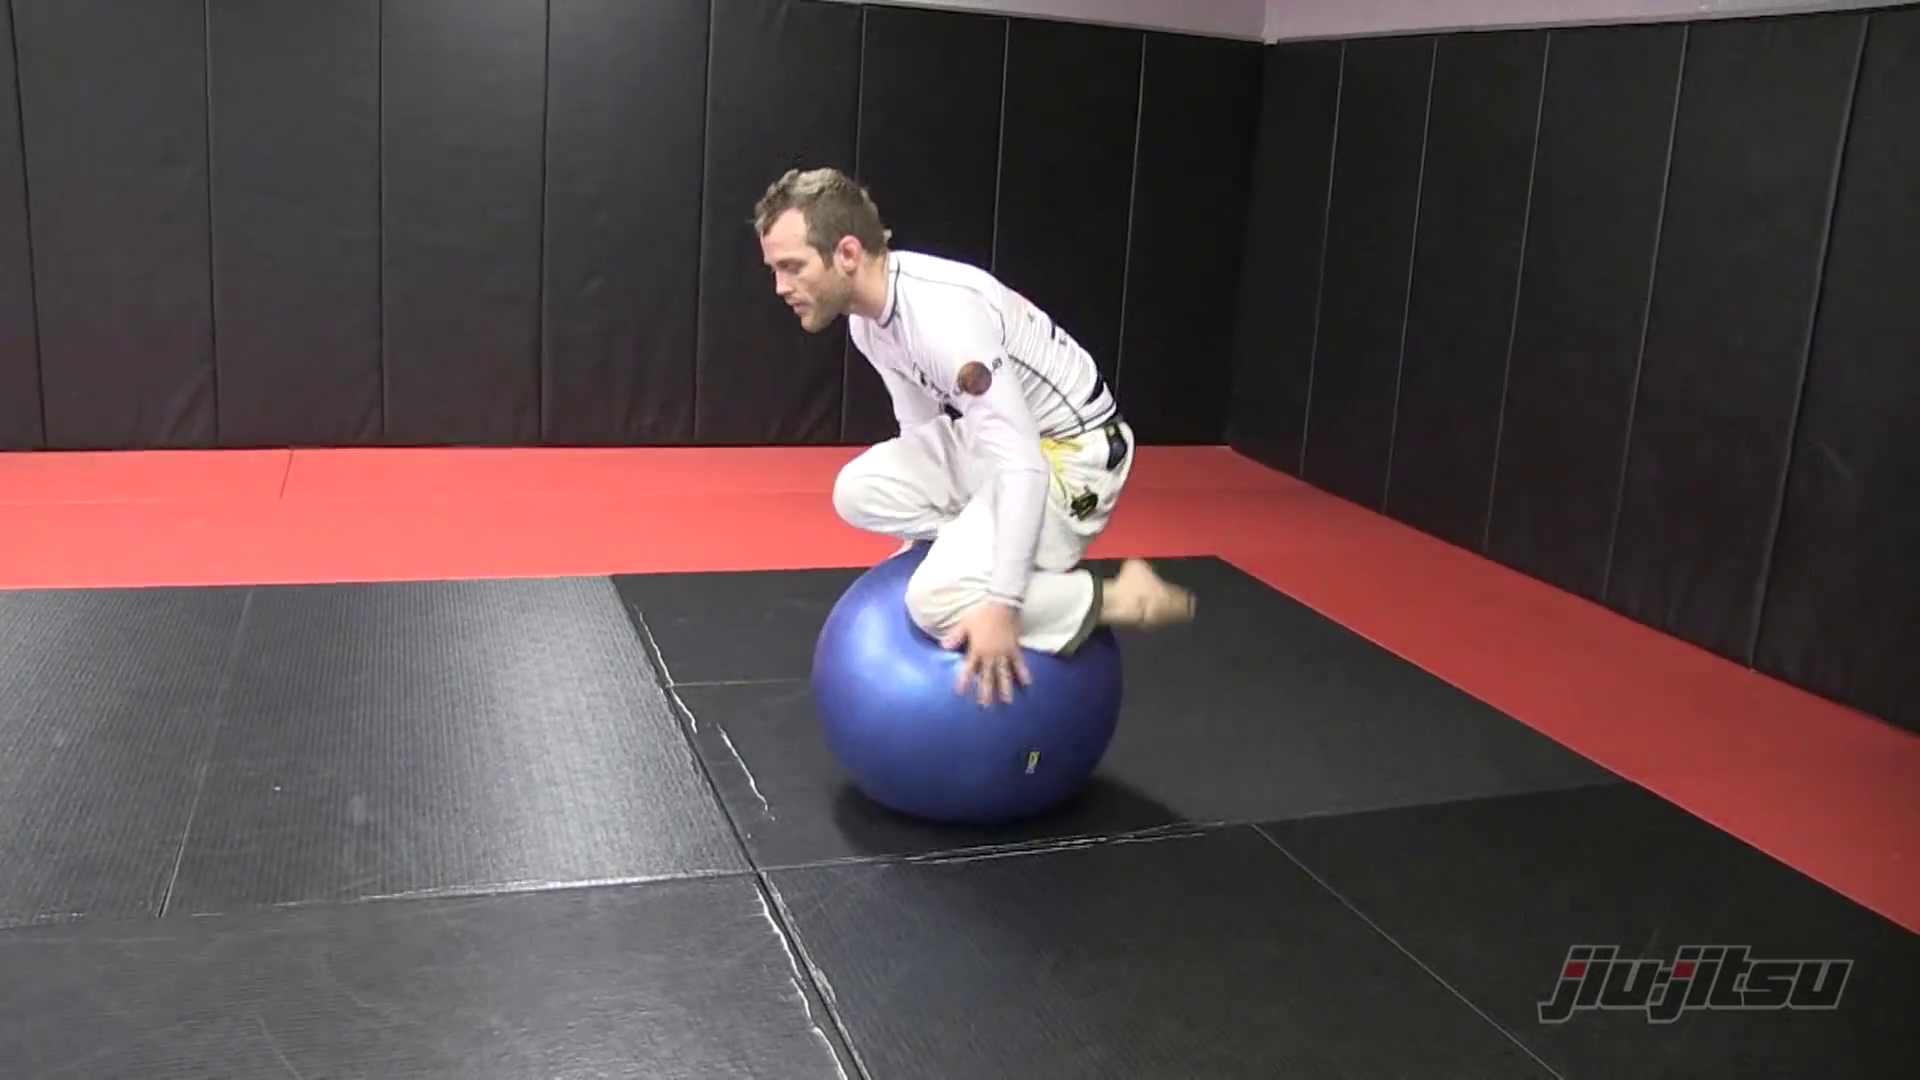yogaball: (796, 541, 1146, 851)
